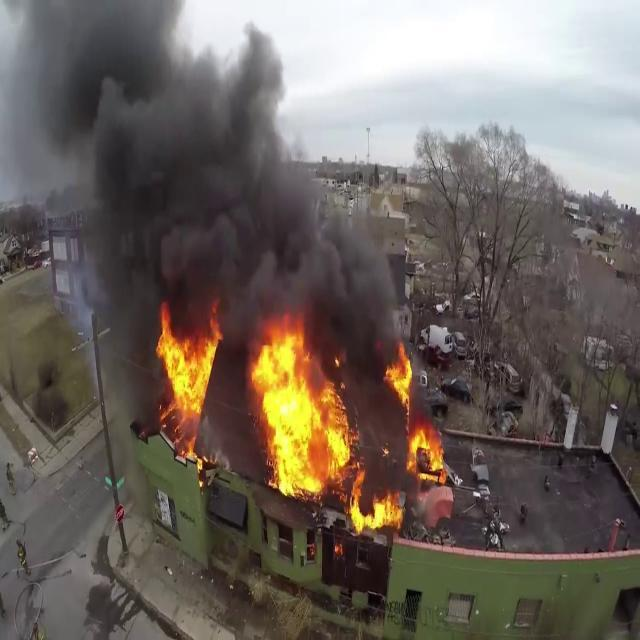Fire: (248, 324, 448, 528), (153, 307, 220, 432)
Smoke: (21, 0, 402, 357)
